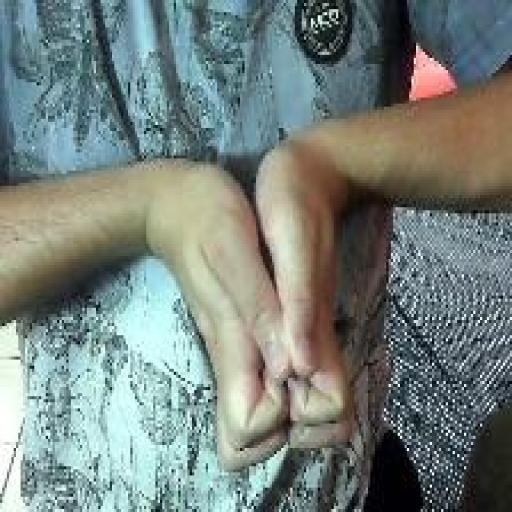I -boar-: (162, 140, 357, 476)
